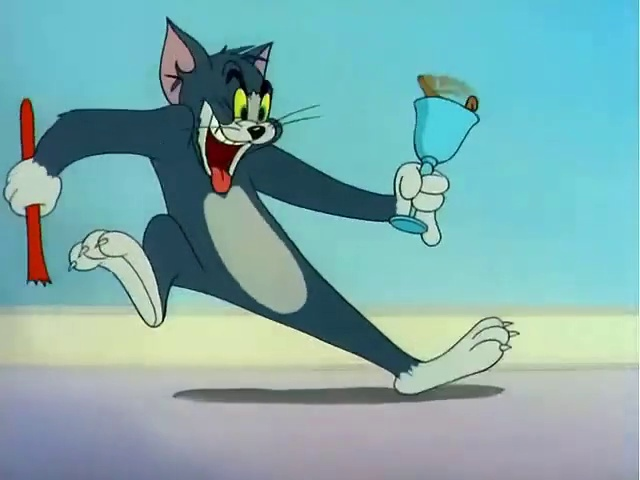tom: (16, 17, 528, 425)
